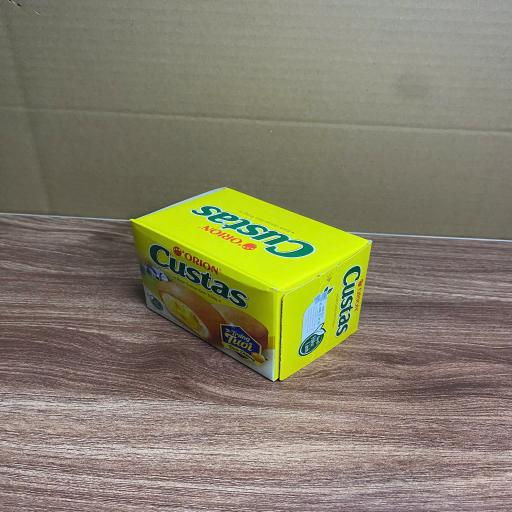custas: (130, 187, 372, 382)
